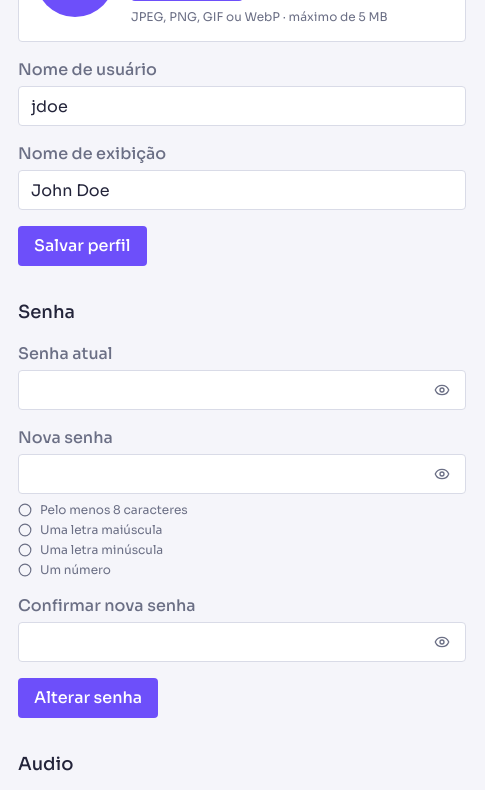
SettingsPage › shows the backend error message when the current password is wrong
(page scrolled)
In the password field labelled "Senha atual": (242, 390) [18,370,466,410], type "wrongpassword"
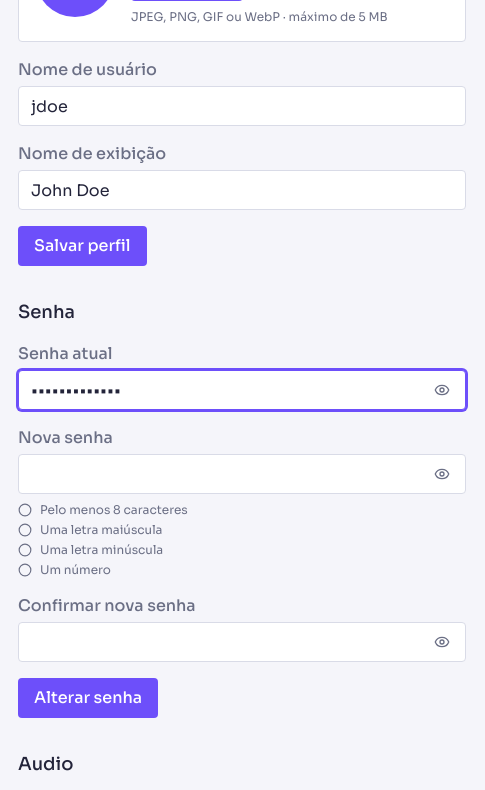
In the password field labelled "Nova senha": (242, 474) [18,454,466,494], type "NewPassword1"
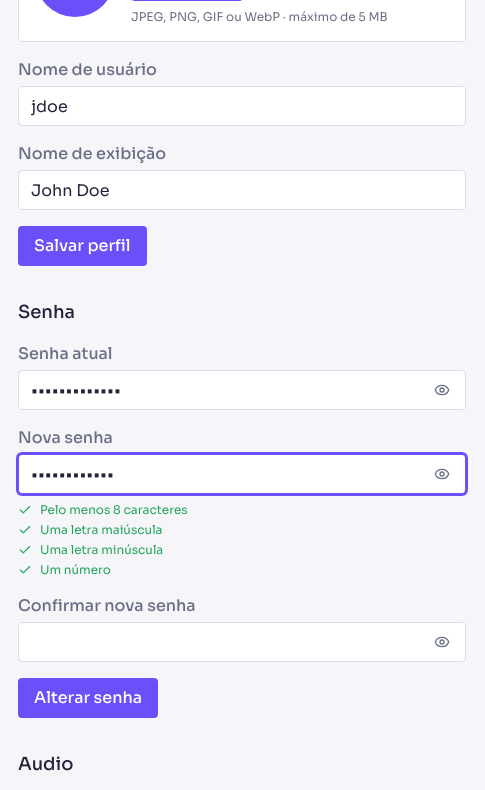
In the password field labelled "Confirmar nova senha": (242, 642) [18,622,466,662], type "NewPassword1"
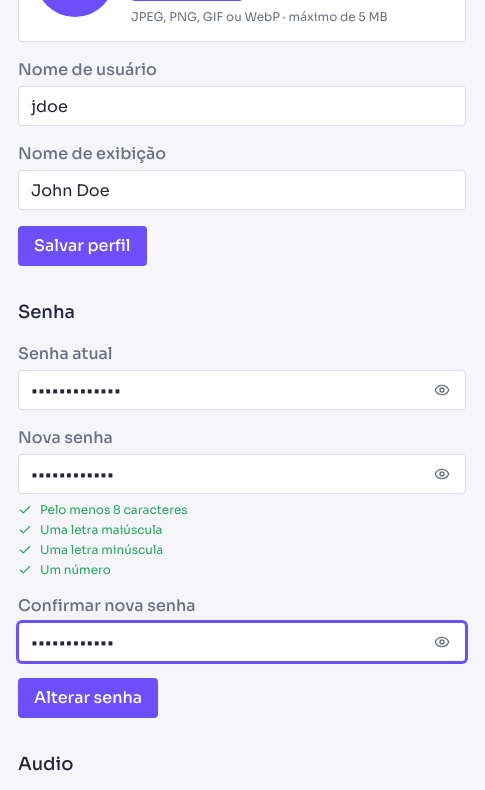
Click the button "Alterar senha": (88, 698) [18,678,158,718]
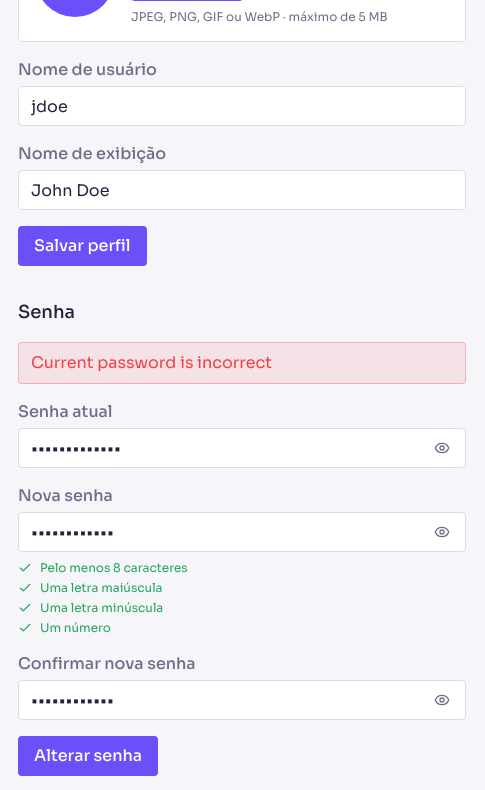
Expected: the message reads "Current password is incorrect", [31,352,272,373]
